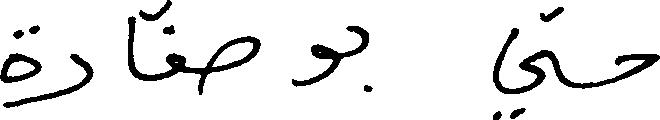X: (490, 4, 555, 119), (140, 0, 185, 85), (0, 20, 39, 112), (41, 49, 93, 105), (205, 31, 257, 83), (298, 39, 339, 90), (349, 21, 373, 96), (615, 49, 659, 86), (126, 11, 138, 83)
